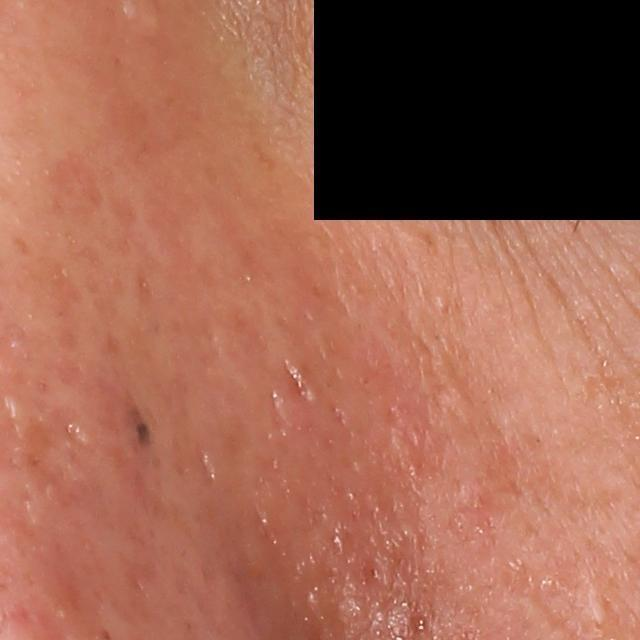atrophic_scar: (24, 416, 81, 499), (278, 354, 314, 410)
nevus: (129, 403, 153, 444)
